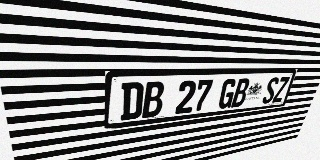2: (175, 80, 197, 114)
7: (192, 80, 213, 112)
B: (142, 81, 165, 118), (231, 78, 251, 108)
D: (120, 82, 144, 121)
G: (217, 79, 238, 109)
S: (261, 77, 280, 104)
Z: (272, 77, 290, 103)
